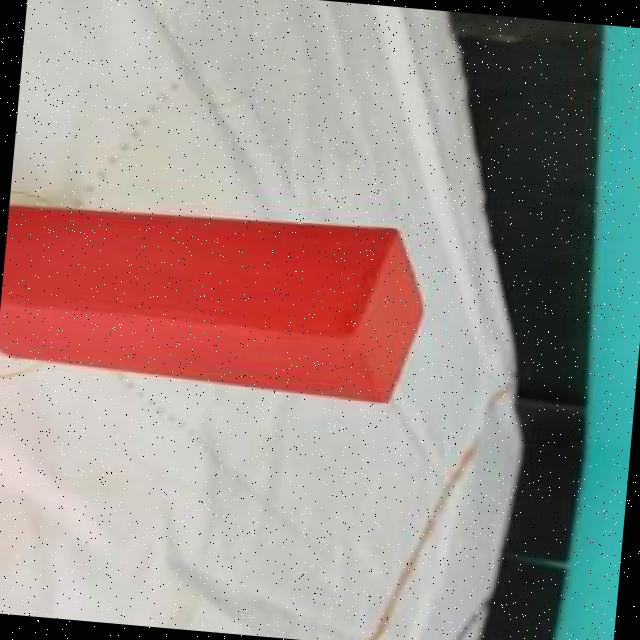redbox: (0, 191, 434, 406)
